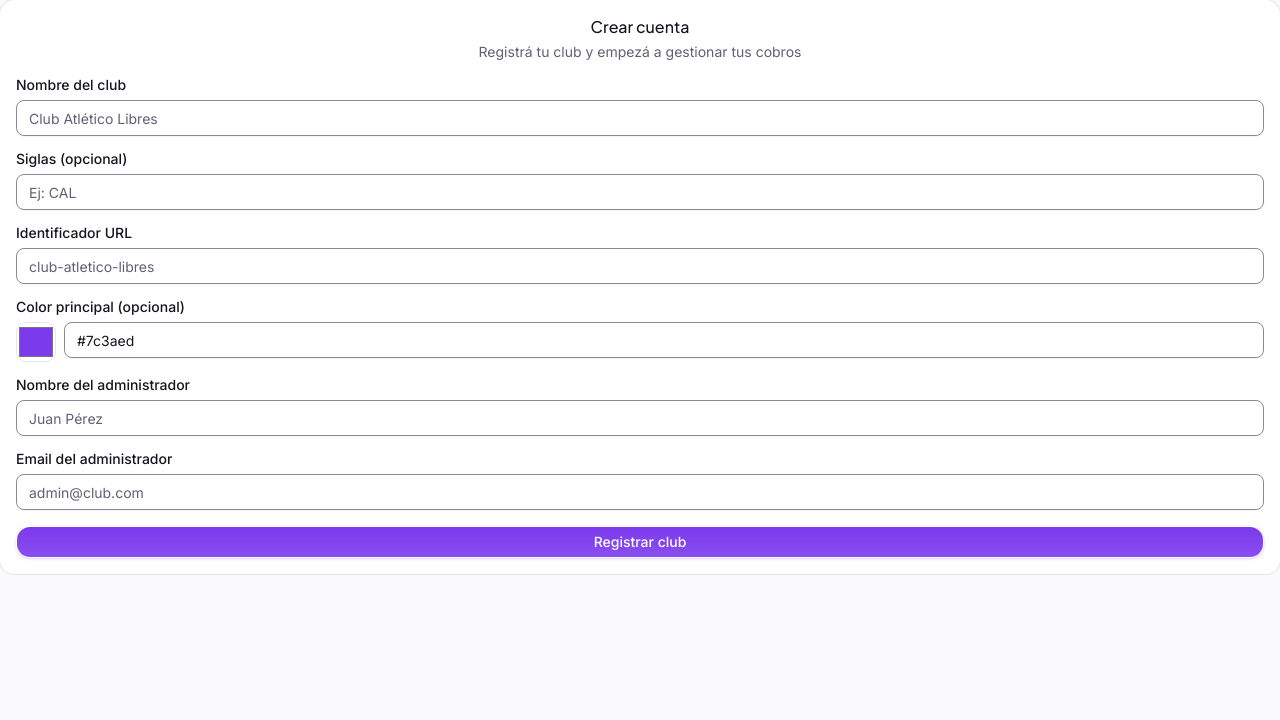
Test: RegistrationForm › shows slug preview based on generated slug
The width and height of the screenshot is (1280, 720).
Step 1. Type "Club Libres" into the field labelled "Nombre del club" → (640, 118), box 16,100 -> 1264,136
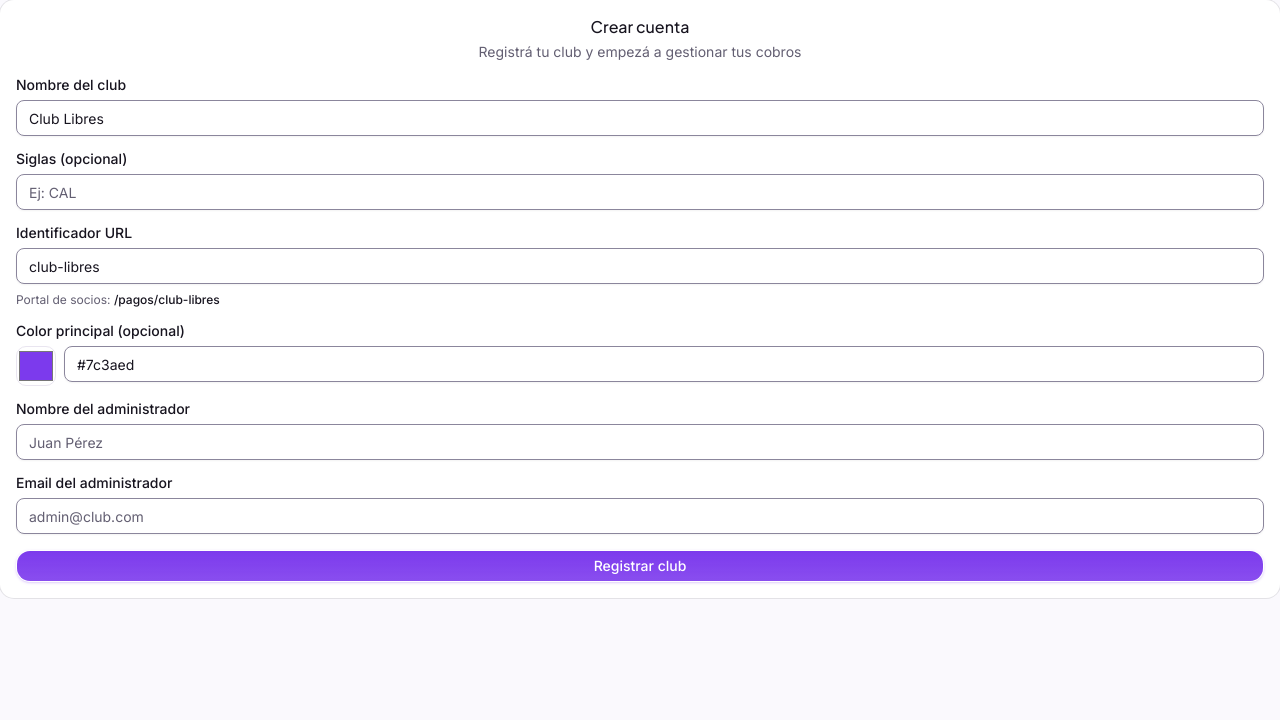
Expected: the text "Portal de socios: /pagos/club-libres" is shown, 16,292 -> 220,307
